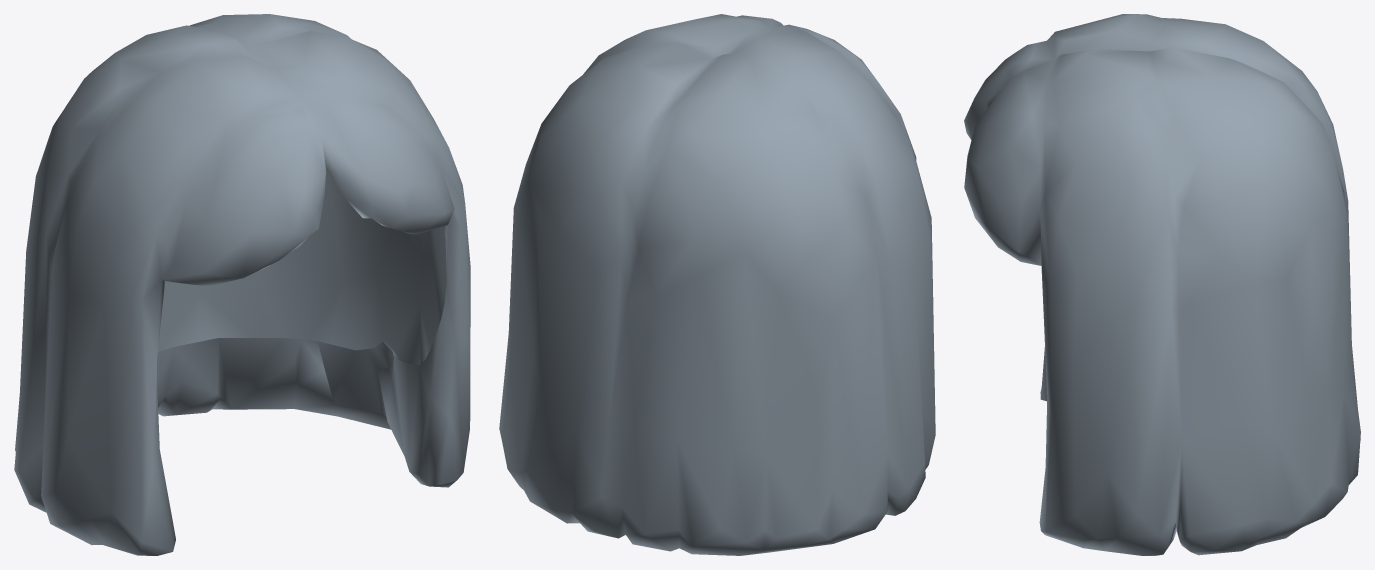
The model's file is cabelo_4.glb.
3 renders of one model, left to right at view 1: azimuth 30°, elevation 25°; view 2: azimuth 150°, elevation 25°; view 3: azimuth 270°, elevation 25°, orthographic. The views are drawn at different scales.
Parts seen in each view (by area): view 1: cabelo_4; view 2: cabelo_4; view 3: cabelo_4.
Boxes of the visible parts, x1=… form: cabelo_4: x1=14, y1=14, x2=470, y2=555; cabelo_4: x1=499, y1=14, x2=935, y2=555; cabelo_4: x1=964, y1=14, x2=1360, y2=555.
Size of the model in its own units: 0.2109 by 0.2243 by 0.1859.
